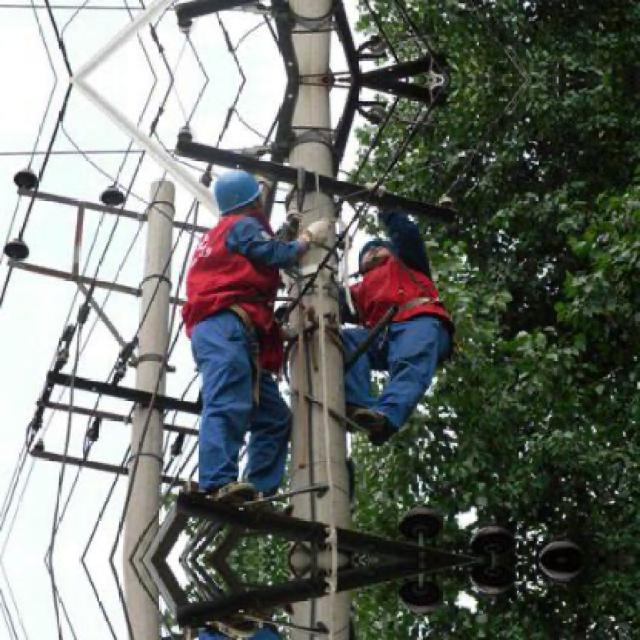con casco: (195, 147, 289, 275), (324, 208, 426, 301)
